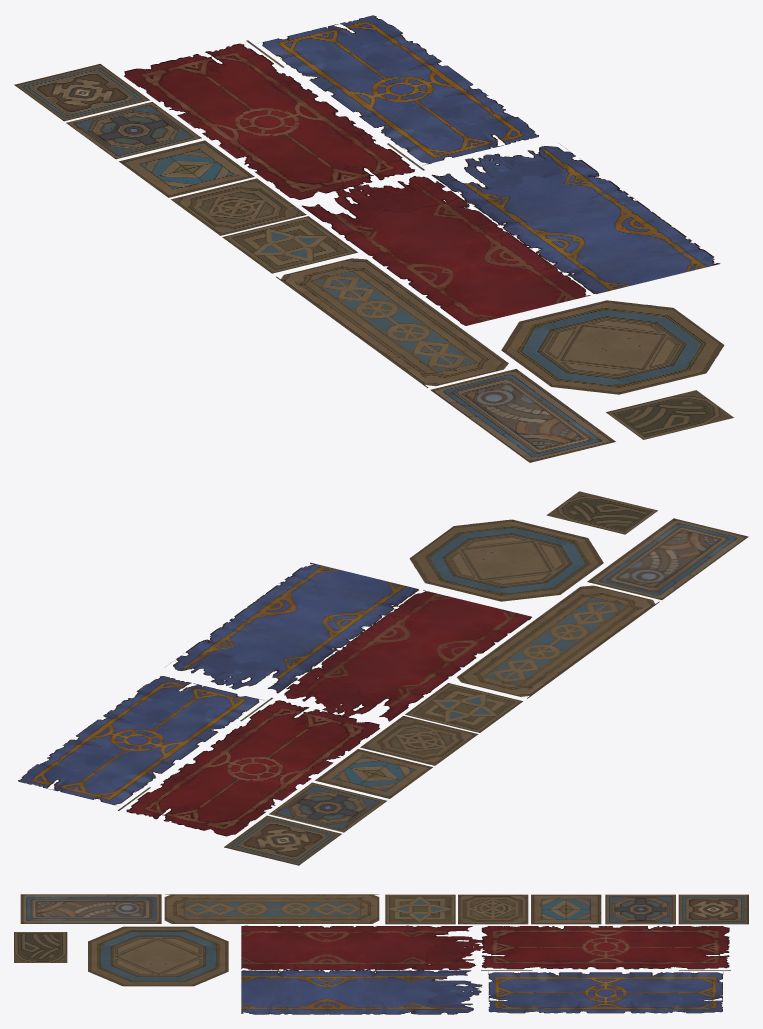
File: 2_DG_TieHua_01.FBX
3 renders of one model, top to bottom at view 1: azimuth 30°, elevation 25°; view 2: azimuth 150°, elevation 25°; view 3: azimuth 270°, elevation 25°, orthographic. The views are drawn at different scales.
Parts seen in each view (by area): view 1: 2_DG_DiTan_01_04, 2_DG_DiTan_01_01, 2_DG_DiTan_01_02, 2_DG_DiTan_01_06, 2_DG_TieHua_01_09, 2_DG_TieHua_01_06, 2_DG_TieHua_01_07, 2_DG_DiTan_01_05, 2_DG_DiTan_01_03, 2_DG_TieHua_01_05, 2_DG_TieHua_01_03, 2_DG_TieHua_01_02 (+3 smaller); view 2: 2_DG_DiTan_01_04, 2_DG_DiTan_01_01, 2_DG_DiTan_01_02, 2_DG_DiTan_01_06, 2_DG_TieHua_01_09, 2_DG_TieHua_01_06, 2_DG_TieHua_01_07, 2_DG_DiTan_01_05, 2_DG_DiTan_01_03, 2_DG_TieHua_01_01, 2_DG_TieHua_01_04, 2_DG_TieHua_01_02 (+3 smaller); view 3: 2_DG_DiTan_01_04, 2_DG_DiTan_01_01, 2_DG_DiTan_01_02, 2_DG_DiTan_01_06, 2_DG_TieHua_01_09, 2_DG_TieHua_01_06, 2_DG_TieHua_01_07, 2_DG_DiTan_01_03, 2_DG_DiTan_01_05, 2_DG_TieHua_01_05, 2_DG_TieHua_01_02, 2_DG_TieHua_01_01 (+3 smaller).
Boxes of the visible parts, box(x1,y1,x2,y2) form: 2_DG_DiTan_01_04: box(124, 40, 424, 199); 2_DG_DiTan_01_01: box(258, 15, 538, 165); 2_DG_DiTan_01_02: box(474, 175, 720, 294); 2_DG_DiTan_01_06: box(344, 206, 590, 325); 2_DG_TieHua_01_09: box(501, 300, 724, 394); 2_DG_TieHua_01_06: box(276, 258, 508, 387); 2_DG_TieHua_01_07: box(430, 369, 615, 462); 2_DG_DiTan_01_05: box(301, 176, 469, 236); 2_DG_DiTan_01_03: box(431, 144, 598, 204); 2_DG_TieHua_01_05: box(222, 216, 357, 273); 2_DG_TieHua_01_03: box(119, 140, 254, 197); 2_DG_TieHua_01_02: box(66, 102, 201, 159); 2_DG_DiTan_01_04: box(118, 697, 379, 836); 2_DG_DiTan_01_01: box(18, 676, 264, 805); 2_DG_DiTan_01_02: box(205, 562, 418, 666); 2_DG_DiTan_01_06: box(317, 590, 531, 694); 2_DG_TieHua_01_09: box(409, 519, 603, 601); 2_DG_TieHua_01_06: box(457, 585, 659, 698); 2_DG_TieHua_01_07: box(587, 518, 748, 599); 2_DG_DiTan_01_05: box(284, 668, 424, 721); 2_DG_DiTan_01_03: box(170, 640, 312, 693); 2_DG_TieHua_01_01: box(224, 815, 341, 865); 2_DG_TieHua_01_04: box(360, 716, 478, 765); 2_DG_TieHua_01_02: box(269, 782, 386, 832); 2_DG_DiTan_01_04: box(481, 926, 730, 970); 2_DG_DiTan_01_01: box(488, 971, 723, 1013); 2_DG_DiTan_01_02: box(241, 970, 412, 1014); 2_DG_DiTan_01_06: box(241, 925, 412, 969); 2_DG_TieHua_01_09: box(88, 926, 228, 986); 2_DG_TieHua_01_06: box(164, 894, 379, 923); 2_DG_TieHua_01_07: box(20, 894, 161, 923); 2_DG_DiTan_01_03: box(413, 970, 482, 1014); 2_DG_DiTan_01_05: box(413, 925, 482, 969); 2_DG_TieHua_01_05: box(385, 894, 455, 924); 2_DG_TieHua_01_02: box(605, 894, 675, 924); 2_DG_TieHua_01_01: box(678, 894, 748, 924).
Size of the model in its own units: 1416 by 0.3775 by 3655.
